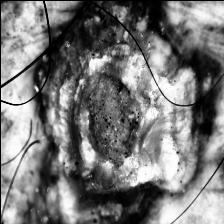Potentially Malignant Skin Tumors: (89, 81, 135, 161)
